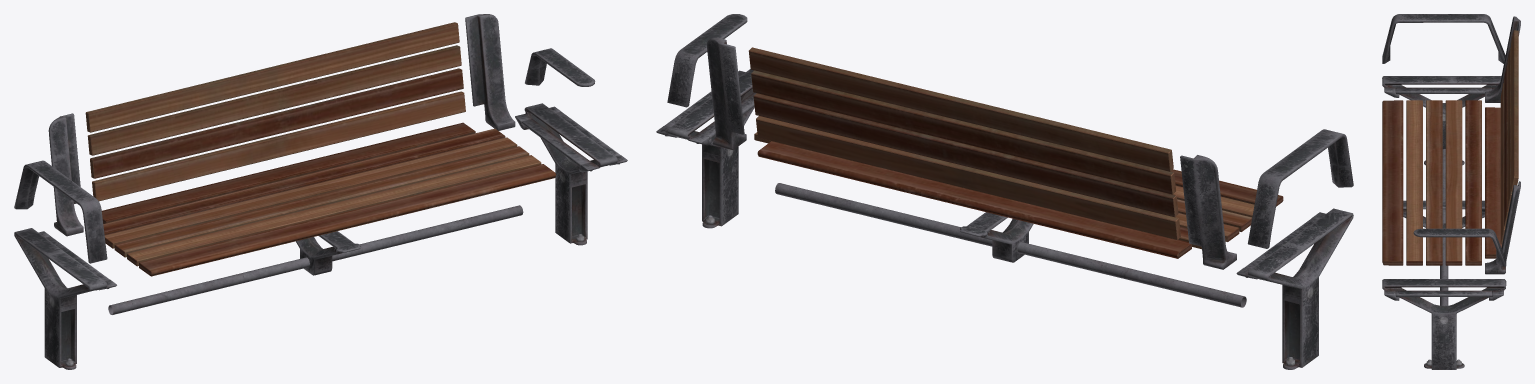
Rendered from bench.glb.
The picture shows the model from 3 angles, left to right: view 1: azimuth 30°, elevation 25°; view 2: azimuth 150°, elevation 25°; view 3: azimuth 270°, elevation 25°; orthographic projection. The views are drawn at different scales.
Parts seen in each view (by area): view 1: seat, legs_double, crossbar, back_support_r; view 2: seat, crossbar, legs_double, back_support_r; view 3: seat, legs_double, crossbar, back_support_r.
Part boxes in pixels (x1,y1,x2,y2): seat: [85, 22, 555, 276]; legs_double: [14, 103, 627, 369]; crossbar: [14, 14, 595, 314]; back_support_r: [48, 113, 83, 236]; seat: [748, 47, 1283, 258]; crossbar: [667, 14, 1353, 307]; legs_double: [656, 69, 1353, 369]; back_support_r: [1180, 155, 1236, 269]; seat: [1382, 30, 1518, 265]; legs_double: [1382, 76, 1506, 369]; crossbar: [1382, 14, 1520, 305]; back_support_r: [1485, 16, 1520, 102].
Bounding box in the file's own units: 2.45 × 0.8669 × 0.6704.
Materials: 3 (3 with a texture image).
